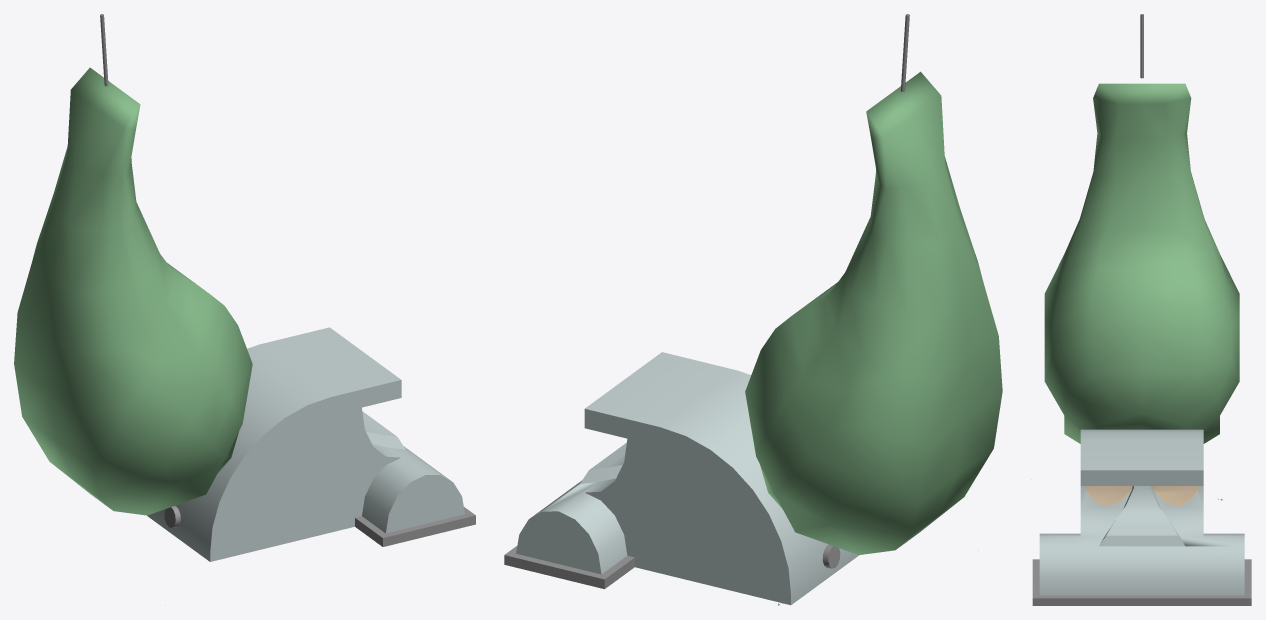
The model's file is Kirby.fbx.
The picture shows the model from 3 angles, left to right: view 1: azimuth 30°, elevation 25°; view 2: azimuth 150°, elevation 25°; view 3: azimuth 270°, elevation 25°; orthographic projection. The views are drawn at different scales.
Parts seen in each view (by area): view 1: instance_2, group_3.002, group_3; view 2: instance_2, group_3.002, group_3; view 3: instance_2, group_3.002, group_3, group_3.001, group_3.004.
Part boxes in pixels (box(x1,y1,x2,y2)): instance_2: box(14, 67, 252, 515); group_3.002: box(147, 327, 464, 561); group_3: box(355, 507, 475, 546); instance_2: box(745, 71, 1002, 554); group_3.002: box(516, 352, 859, 605); group_3: box(504, 546, 634, 589); instance_2: box(1044, 83, 1239, 443); group_3.002: box(1039, 429, 1244, 595); group_3: box(1032, 559, 1251, 605); group_3.001: box(1085, 486, 1132, 506); group_3.004: box(1152, 486, 1198, 506).
Bounding box in the file's own units: 57.09 × 81.26 × 34.79.
